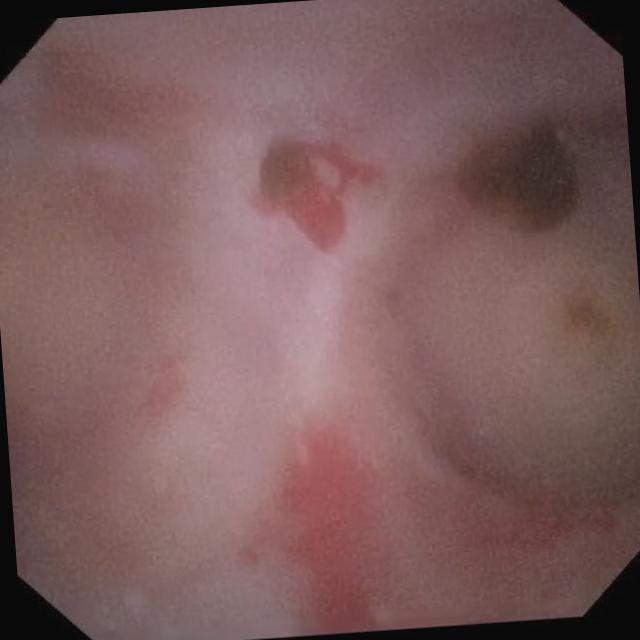stone-new: (460, 125, 579, 235), (258, 143, 311, 209)
